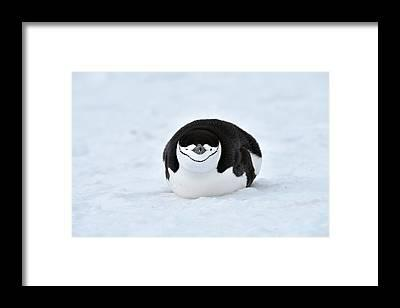chinstrap: (143, 100, 292, 224)
